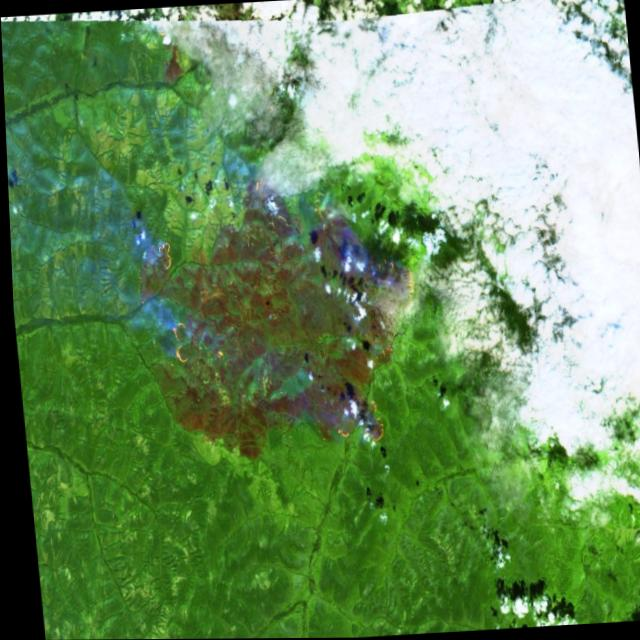fire: (309, 189, 423, 320), (324, 378, 393, 462), (363, 324, 407, 374), (199, 342, 225, 369)
